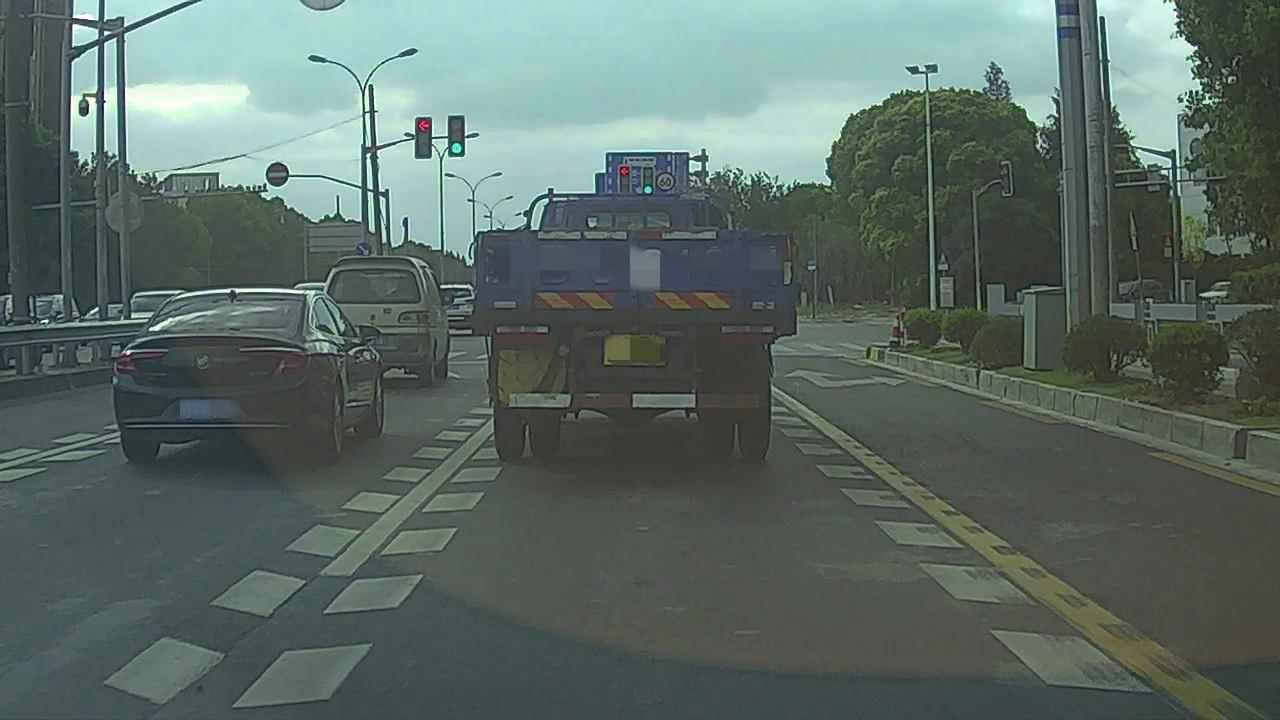traffic_light: (416, 118, 432, 158), (449, 118, 465, 156), (618, 166, 630, 195), (642, 167, 654, 195)
